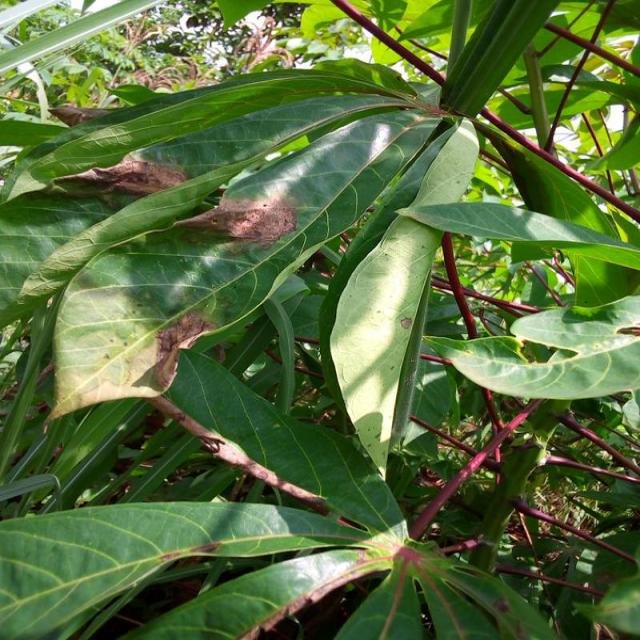cassava leaf: (34, 92, 452, 426)
